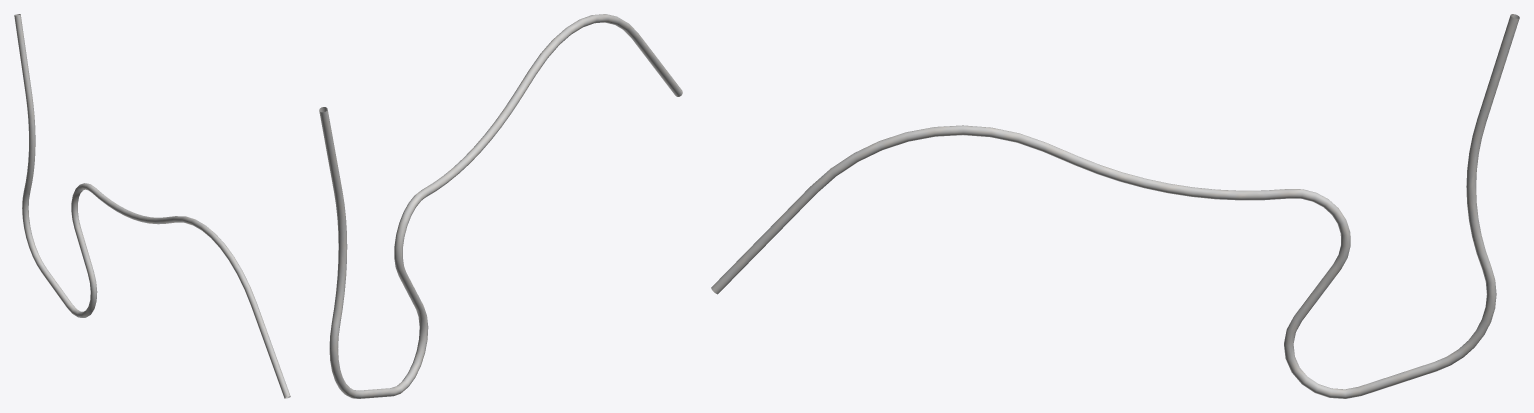
File: Pipe__9.fbx
3 views of the same model, side by side, from view 1: azimuth 30°, elevation 25°; view 2: azimuth 150°, elevation 25°; view 3: azimuth 270°, elevation 25° (orthographic). The views are drawn at different scales.
Visible parts, largest first — view 1: Pipe_Red; view 2: Pipe_Red; view 3: Pipe_Red.
Part boxes in pixels (x1,y1,x2,y2): Pipe_Red: (14, 14, 290, 398); Pipe_Red: (319, 14, 682, 398); Pipe_Red: (711, 14, 1519, 398).
Size of the model in its own units: 0.08 by 3.47 by 6.64.
1 material, 1 textured.
